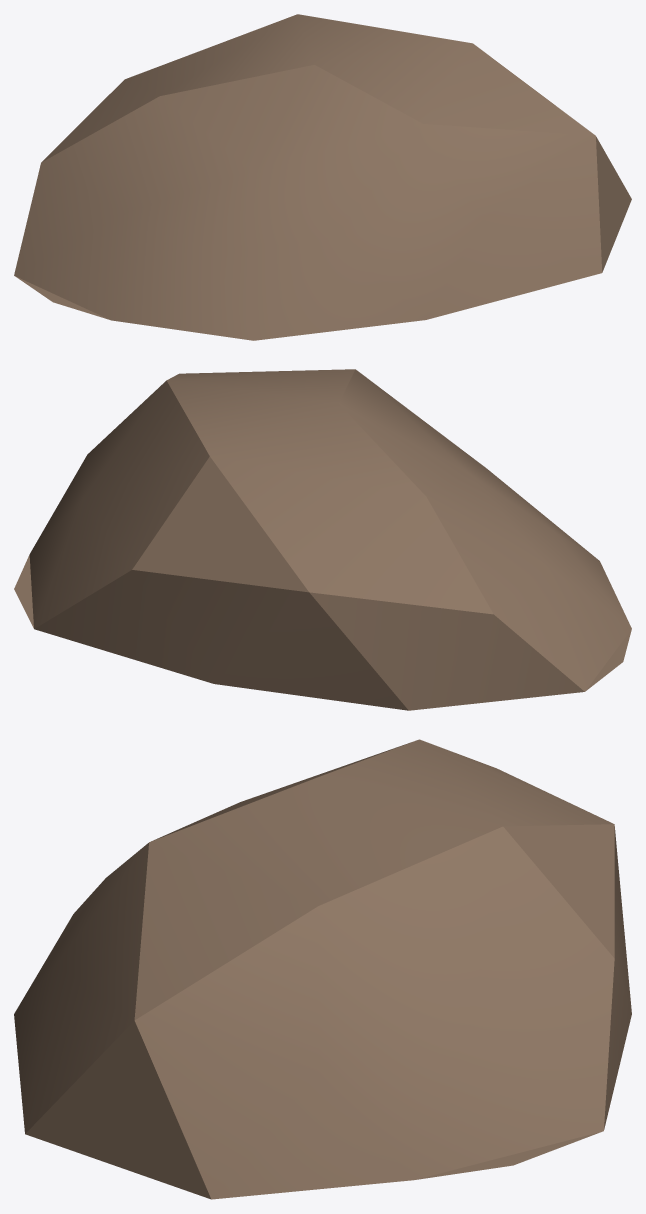
File: roca1.glb
3 views of the same model, one above another, from view 1: azimuth 30°, elevation 25°; view 2: azimuth 150°, elevation 25°; view 3: azimuth 270°, elevation 25° (orthographic). The views are drawn at different scales.
Visible parts, largest first — view 1: roca1; view 2: roca1; view 3: roca1.
Boxes of the visible parts, box(x1,y1,x2,y2) form: roca1: box(14, 14, 631, 340); roca1: box(14, 369, 631, 710); roca1: box(14, 739, 631, 1199).
Bounding box in the file's own units: 1.16 × 0.3554 × 0.8395.
